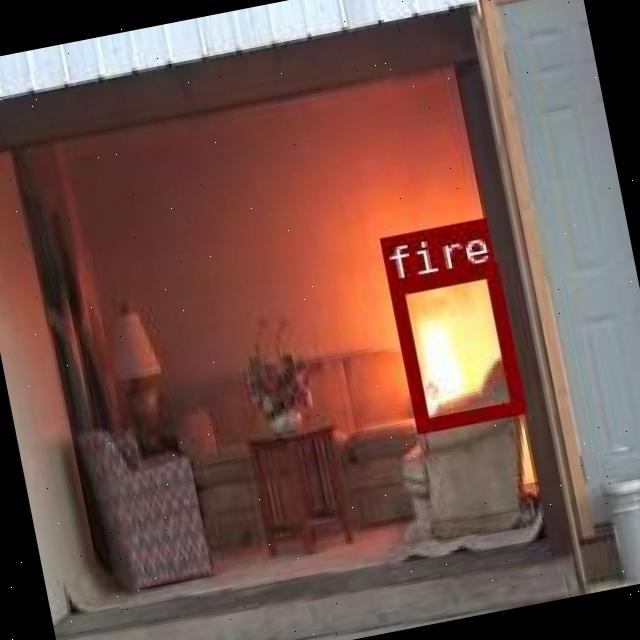fire: (386, 262, 523, 432)
